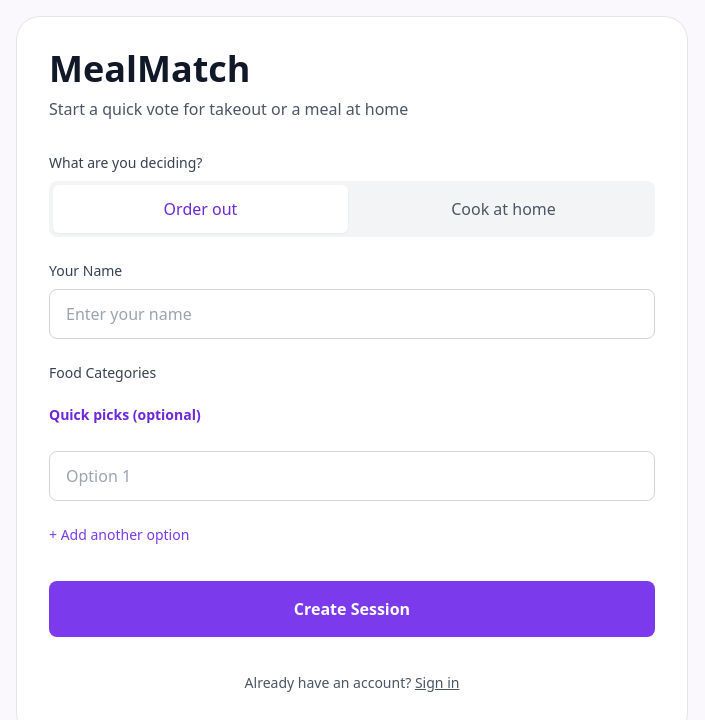
Test: QuickSession › should add meal inputs when clicking add button
Click the button "+ Add another option" at (119, 535), box [49,513,189,557]
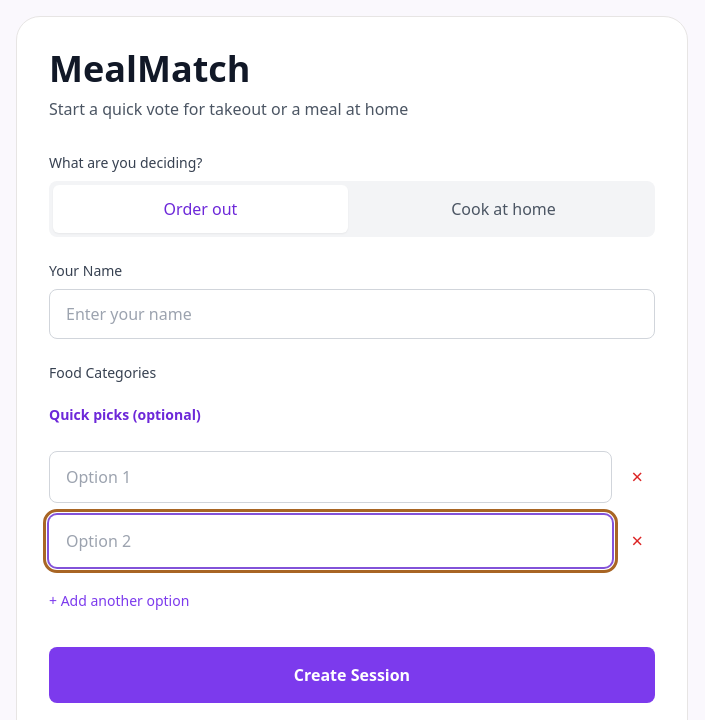
Now the number of fields with placeholder "Option 1" is 2, box [49,451,612,503]; [49,515,612,567]
